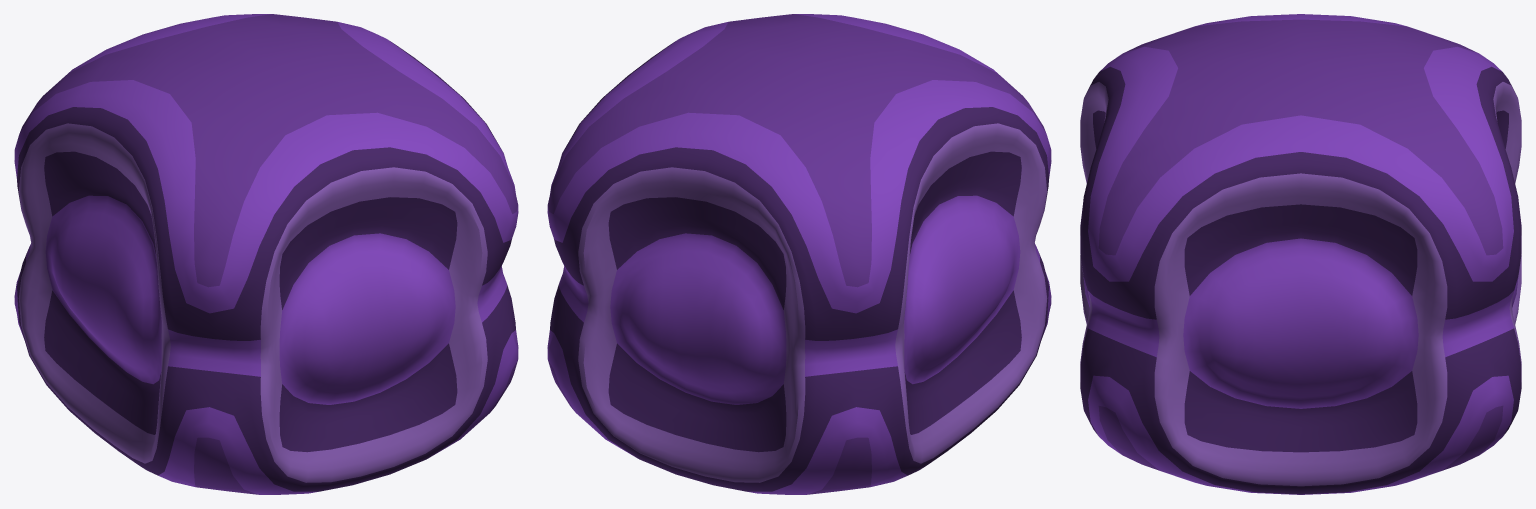
The model's file is ball.glb.
The picture shows the model from 3 angles, left to right: view 1: azimuth 30°, elevation 25°; view 2: azimuth 150°, elevation 25°; view 3: azimuth 270°, elevation 25°; orthographic projection.
Visible parts, largest first — view 1: stadium; view 2: stadium; view 3: stadium.
Part boxes in pixels (left/top/right/bottom): stadium: left=14, top=14, right=518, bottom=494; stadium: left=547, top=14, right=1051, bottom=494; stadium: left=1080, top=14, right=1521, bottom=494.
Size of the model in its own units: 3.4 by 3.58 by 3.64.
1 material, 1 textured.
